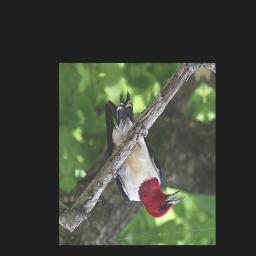Woodpecker: (100, 84, 189, 223)
